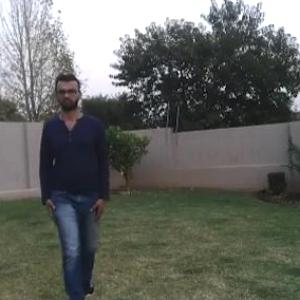follow: (41, 69, 111, 299)
